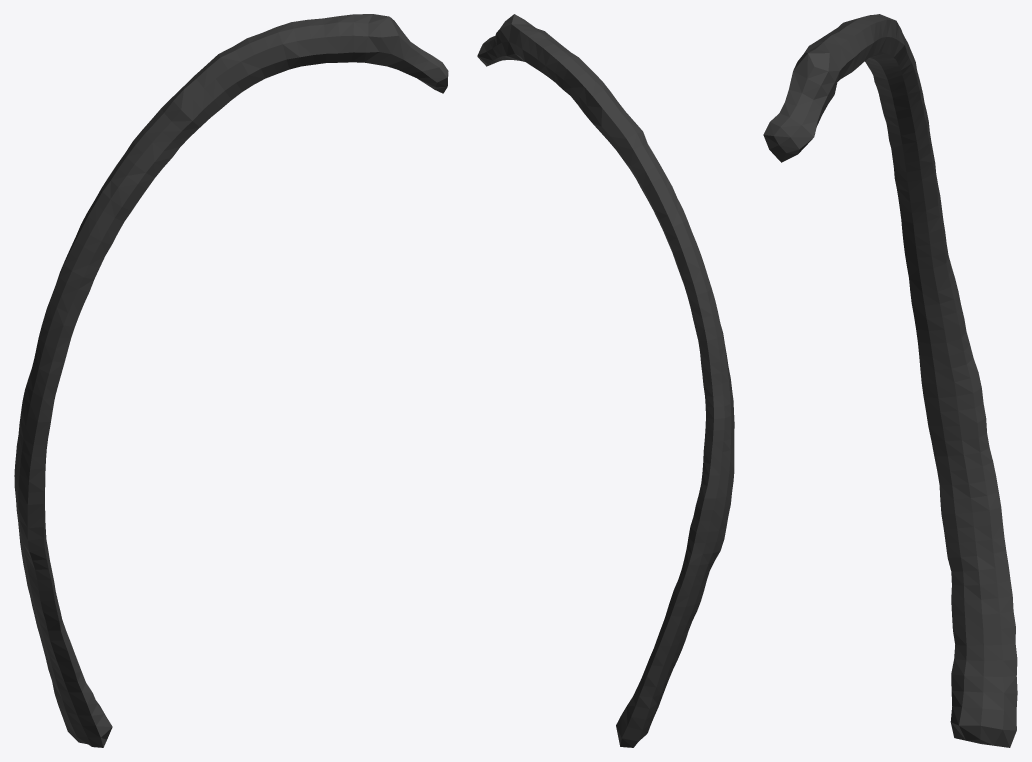
The model's file is Rib_7_R.glb.
3 renders of one model, left to right at view 1: azimuth 30°, elevation 25°; view 2: azimuth 150°, elevation 25°; view 3: azimuth 270°, elevation 25°, orthographic. The views are drawn at different scales.
Parts seen in each view (by area): view 1: Rib_7_R; view 2: Rib_7_R; view 3: Rib_7_R.
Boxes of the visible parts, bbox=[...] form: Rib_7_R: bbox=[14, 14, 448, 747]; Rib_7_R: bbox=[477, 14, 734, 747]; Rib_7_R: bbox=[763, 14, 1017, 747].
Size of the model in its own units: 4.47 by 8.81 by 2.5.
1 material, 1 textured.
